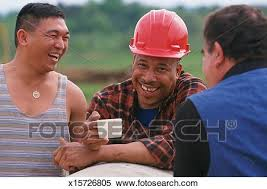Person_wearing_helmet: (127, 5, 187, 73)
